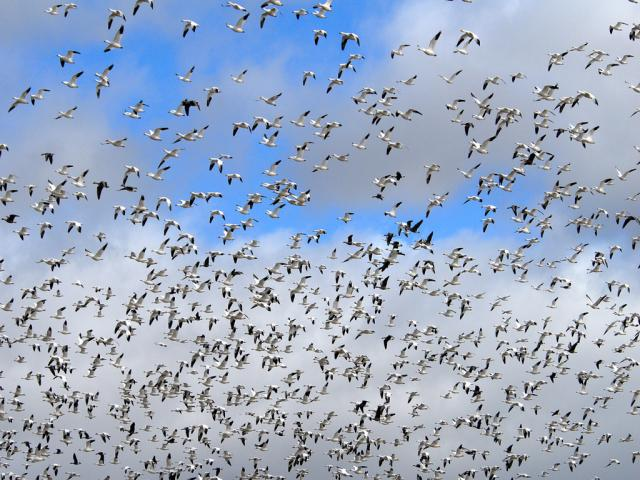Bird: (1, 0, 640, 480), (58, 50, 81, 66), (631, 449, 640, 466)
